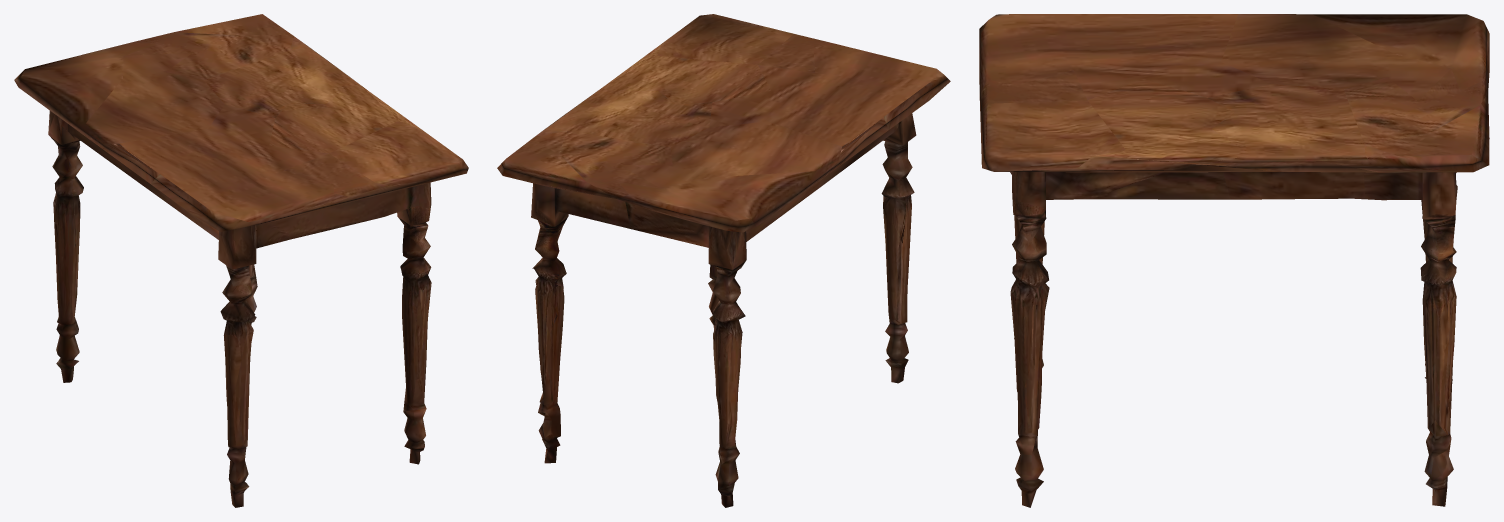
File: mesa.glb
3 views of the same model, side by side, from view 1: azimuth 30°, elevation 25°; view 2: azimuth 150°, elevation 25°; view 3: azimuth 270°, elevation 25° (orthographic). The views are drawn at different scales.
Parts seen in each view (by area): view 1: tripo_node_ce9cd0c5-f1ac-420d-872b-152bee2c25aa; view 2: tripo_node_ce9cd0c5-f1ac-420d-872b-152bee2c25aa; view 3: tripo_node_ce9cd0c5-f1ac-420d-872b-152bee2c25aa.
Part boxes in pixels (x1,y1,x2,y2): tripo_node_ce9cd0c5-f1ac-420d-872b-152bee2c25aa: [14, 14, 468, 507]; tripo_node_ce9cd0c5-f1ac-420d-872b-152bee2c25aa: [497, 14, 950, 507]; tripo_node_ce9cd0c5-f1ac-420d-872b-152bee2c25aa: [979, 14, 1489, 507].
Bounding box in the file's own units: 0.6966 × 0.796 × 0.9996.
1 material, 1 textured.
